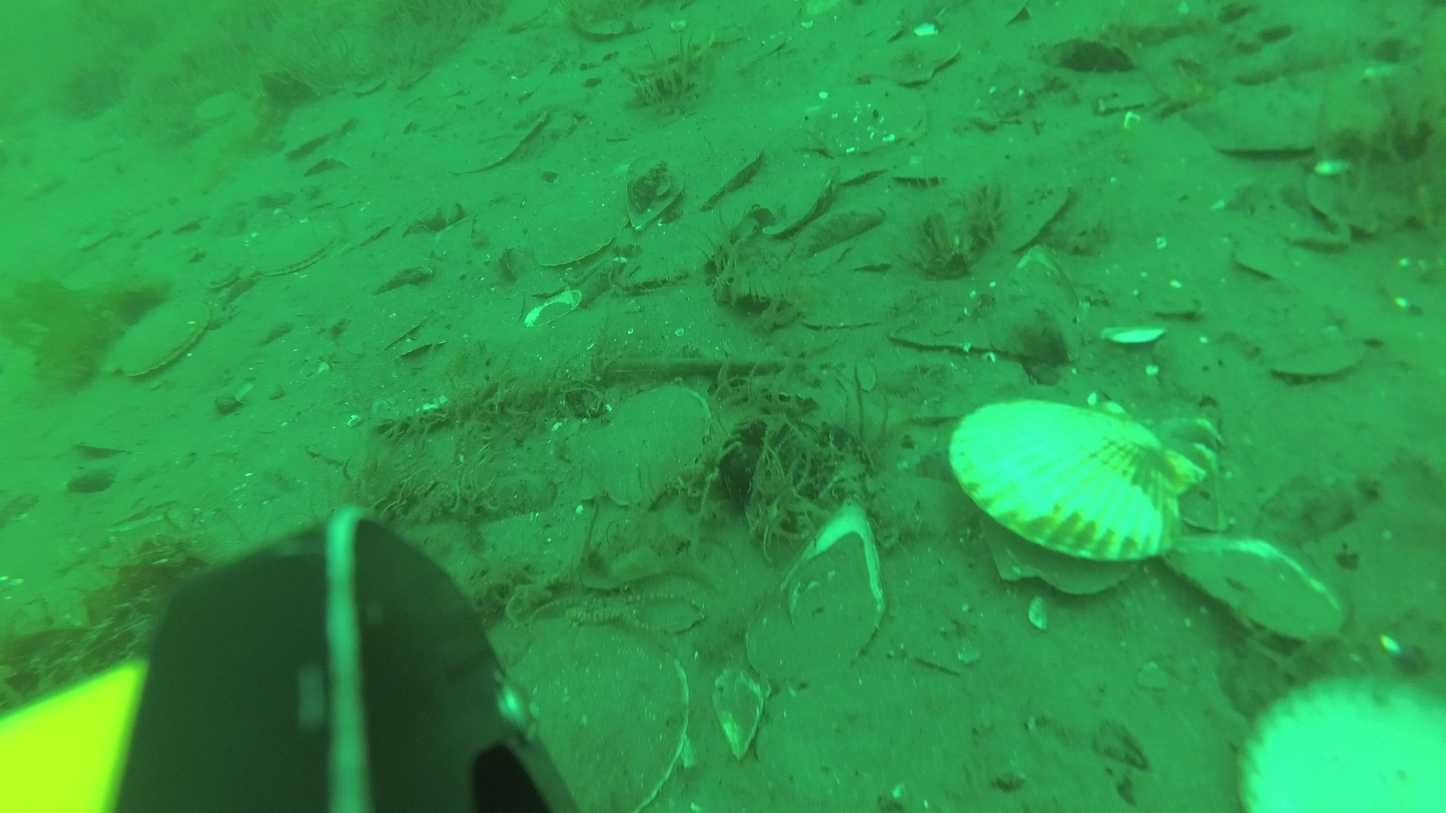scallop: (950, 382, 1210, 602), (577, 375, 725, 510), (814, 87, 940, 163), (111, 297, 215, 379), (532, 204, 631, 271), (864, 28, 964, 94), (258, 216, 346, 281), (1276, 339, 1377, 388), (761, 167, 829, 237), (694, 142, 768, 206), (284, 111, 349, 158), (836, 152, 888, 187), (897, 156, 950, 188), (197, 258, 239, 289)
